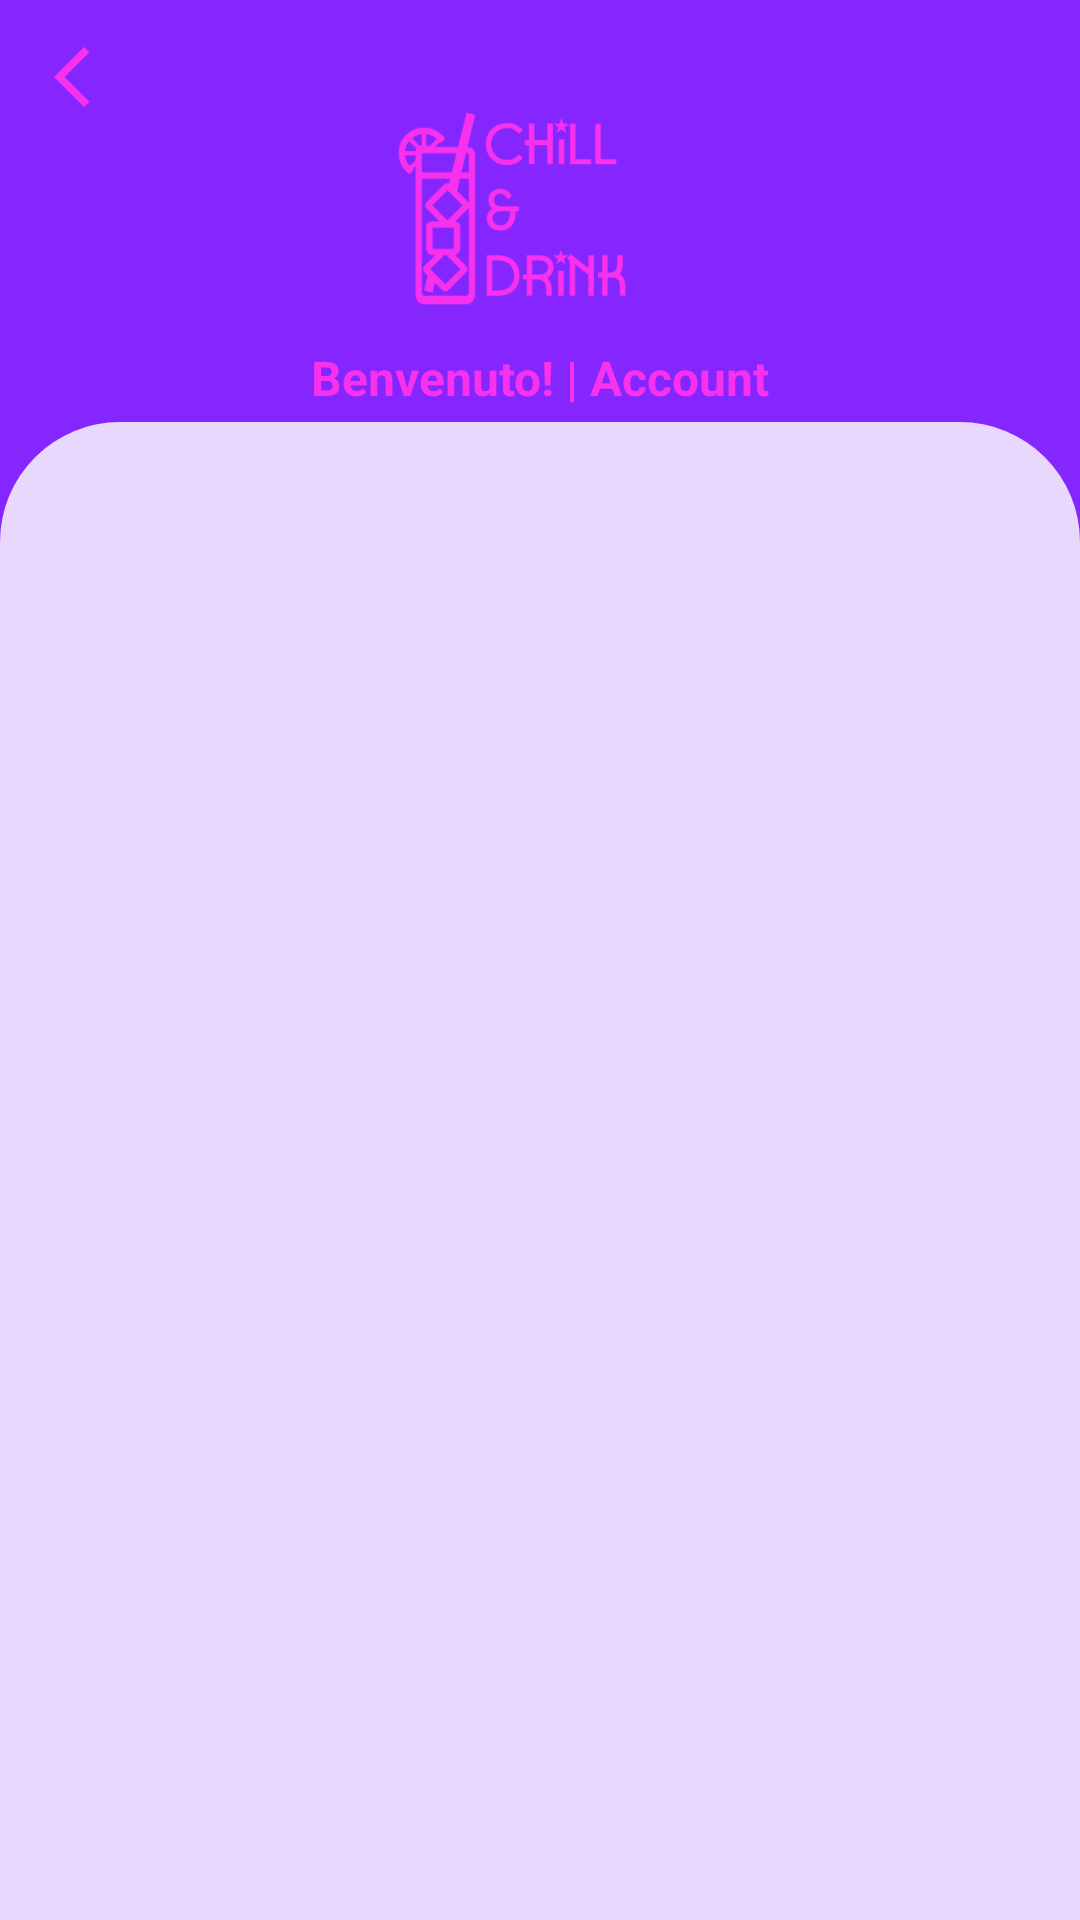

Where to tap for icons on this 1080 x 1920 app screen, as point (x, y):
arrow back: point (71, 77)
